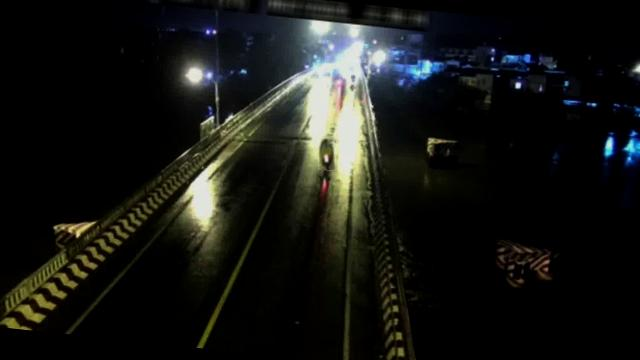Bike: (315, 137, 336, 172)
